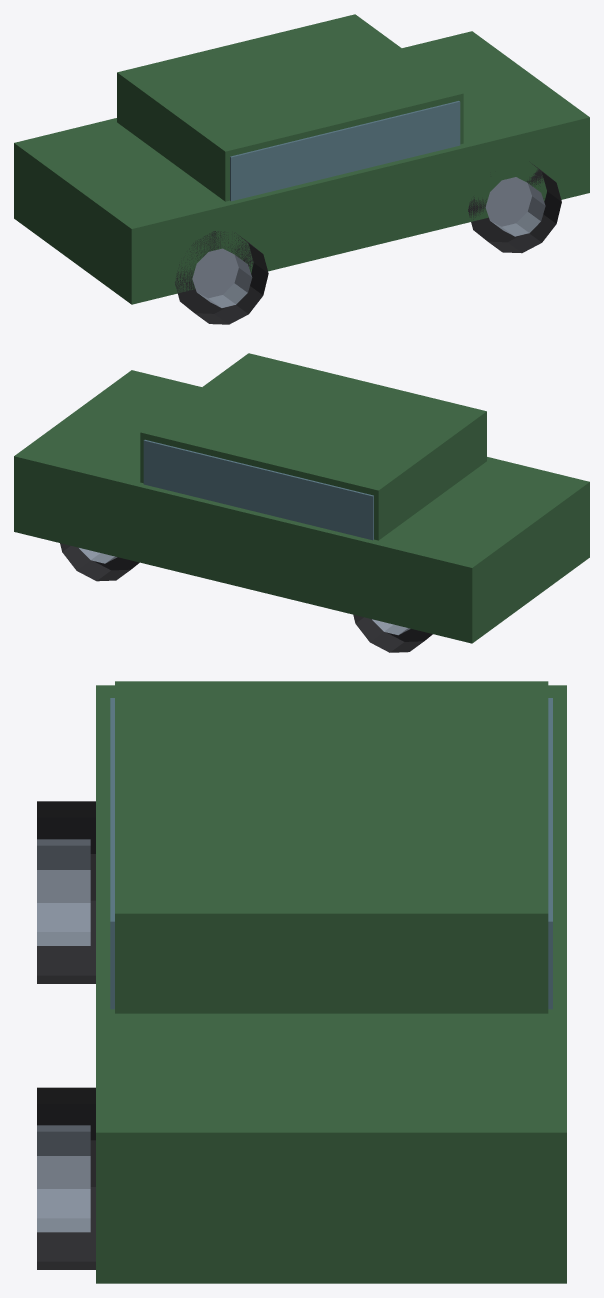
The model's file is car_01.glb.
3 views of the same model, one above another, from view 1: azimuth 30°, elevation 25°; view 2: azimuth 150°, elevation 25°; view 3: azimuth 270°, elevation 25° (orthographic). The views are drawn at different scales.
Visible parts, largest first — view 1: car_01; view 2: car_01; view 3: car_01.
Boxes of the visible parts, x1=… form: car_01: x1=14, y1=14, x2=589, y2=324; car_01: x1=14, y1=353, x2=589, y2=652; car_01: x1=37, y1=681, x2=566, y2=1283.
Bounding box in the file's own units: 3.93 × 1.27 × 1.97.
